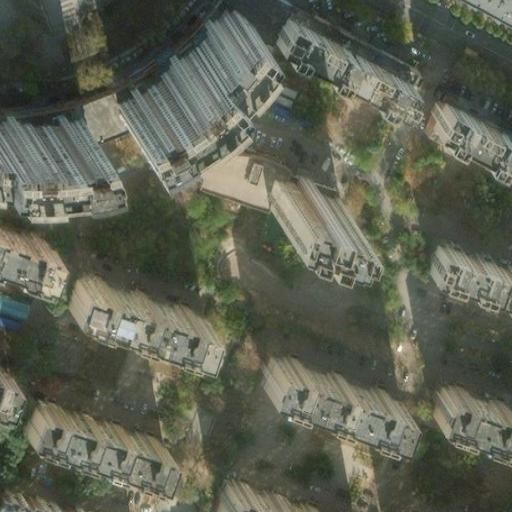building: (265, 19, 406, 110), (246, 348, 389, 429), (15, 395, 158, 476), (61, 262, 206, 340), (109, 27, 213, 115), (207, 464, 350, 512), (421, 95, 512, 164), (423, 380, 512, 449), (424, 246, 512, 310), (255, 169, 333, 221), (69, 88, 129, 133)
